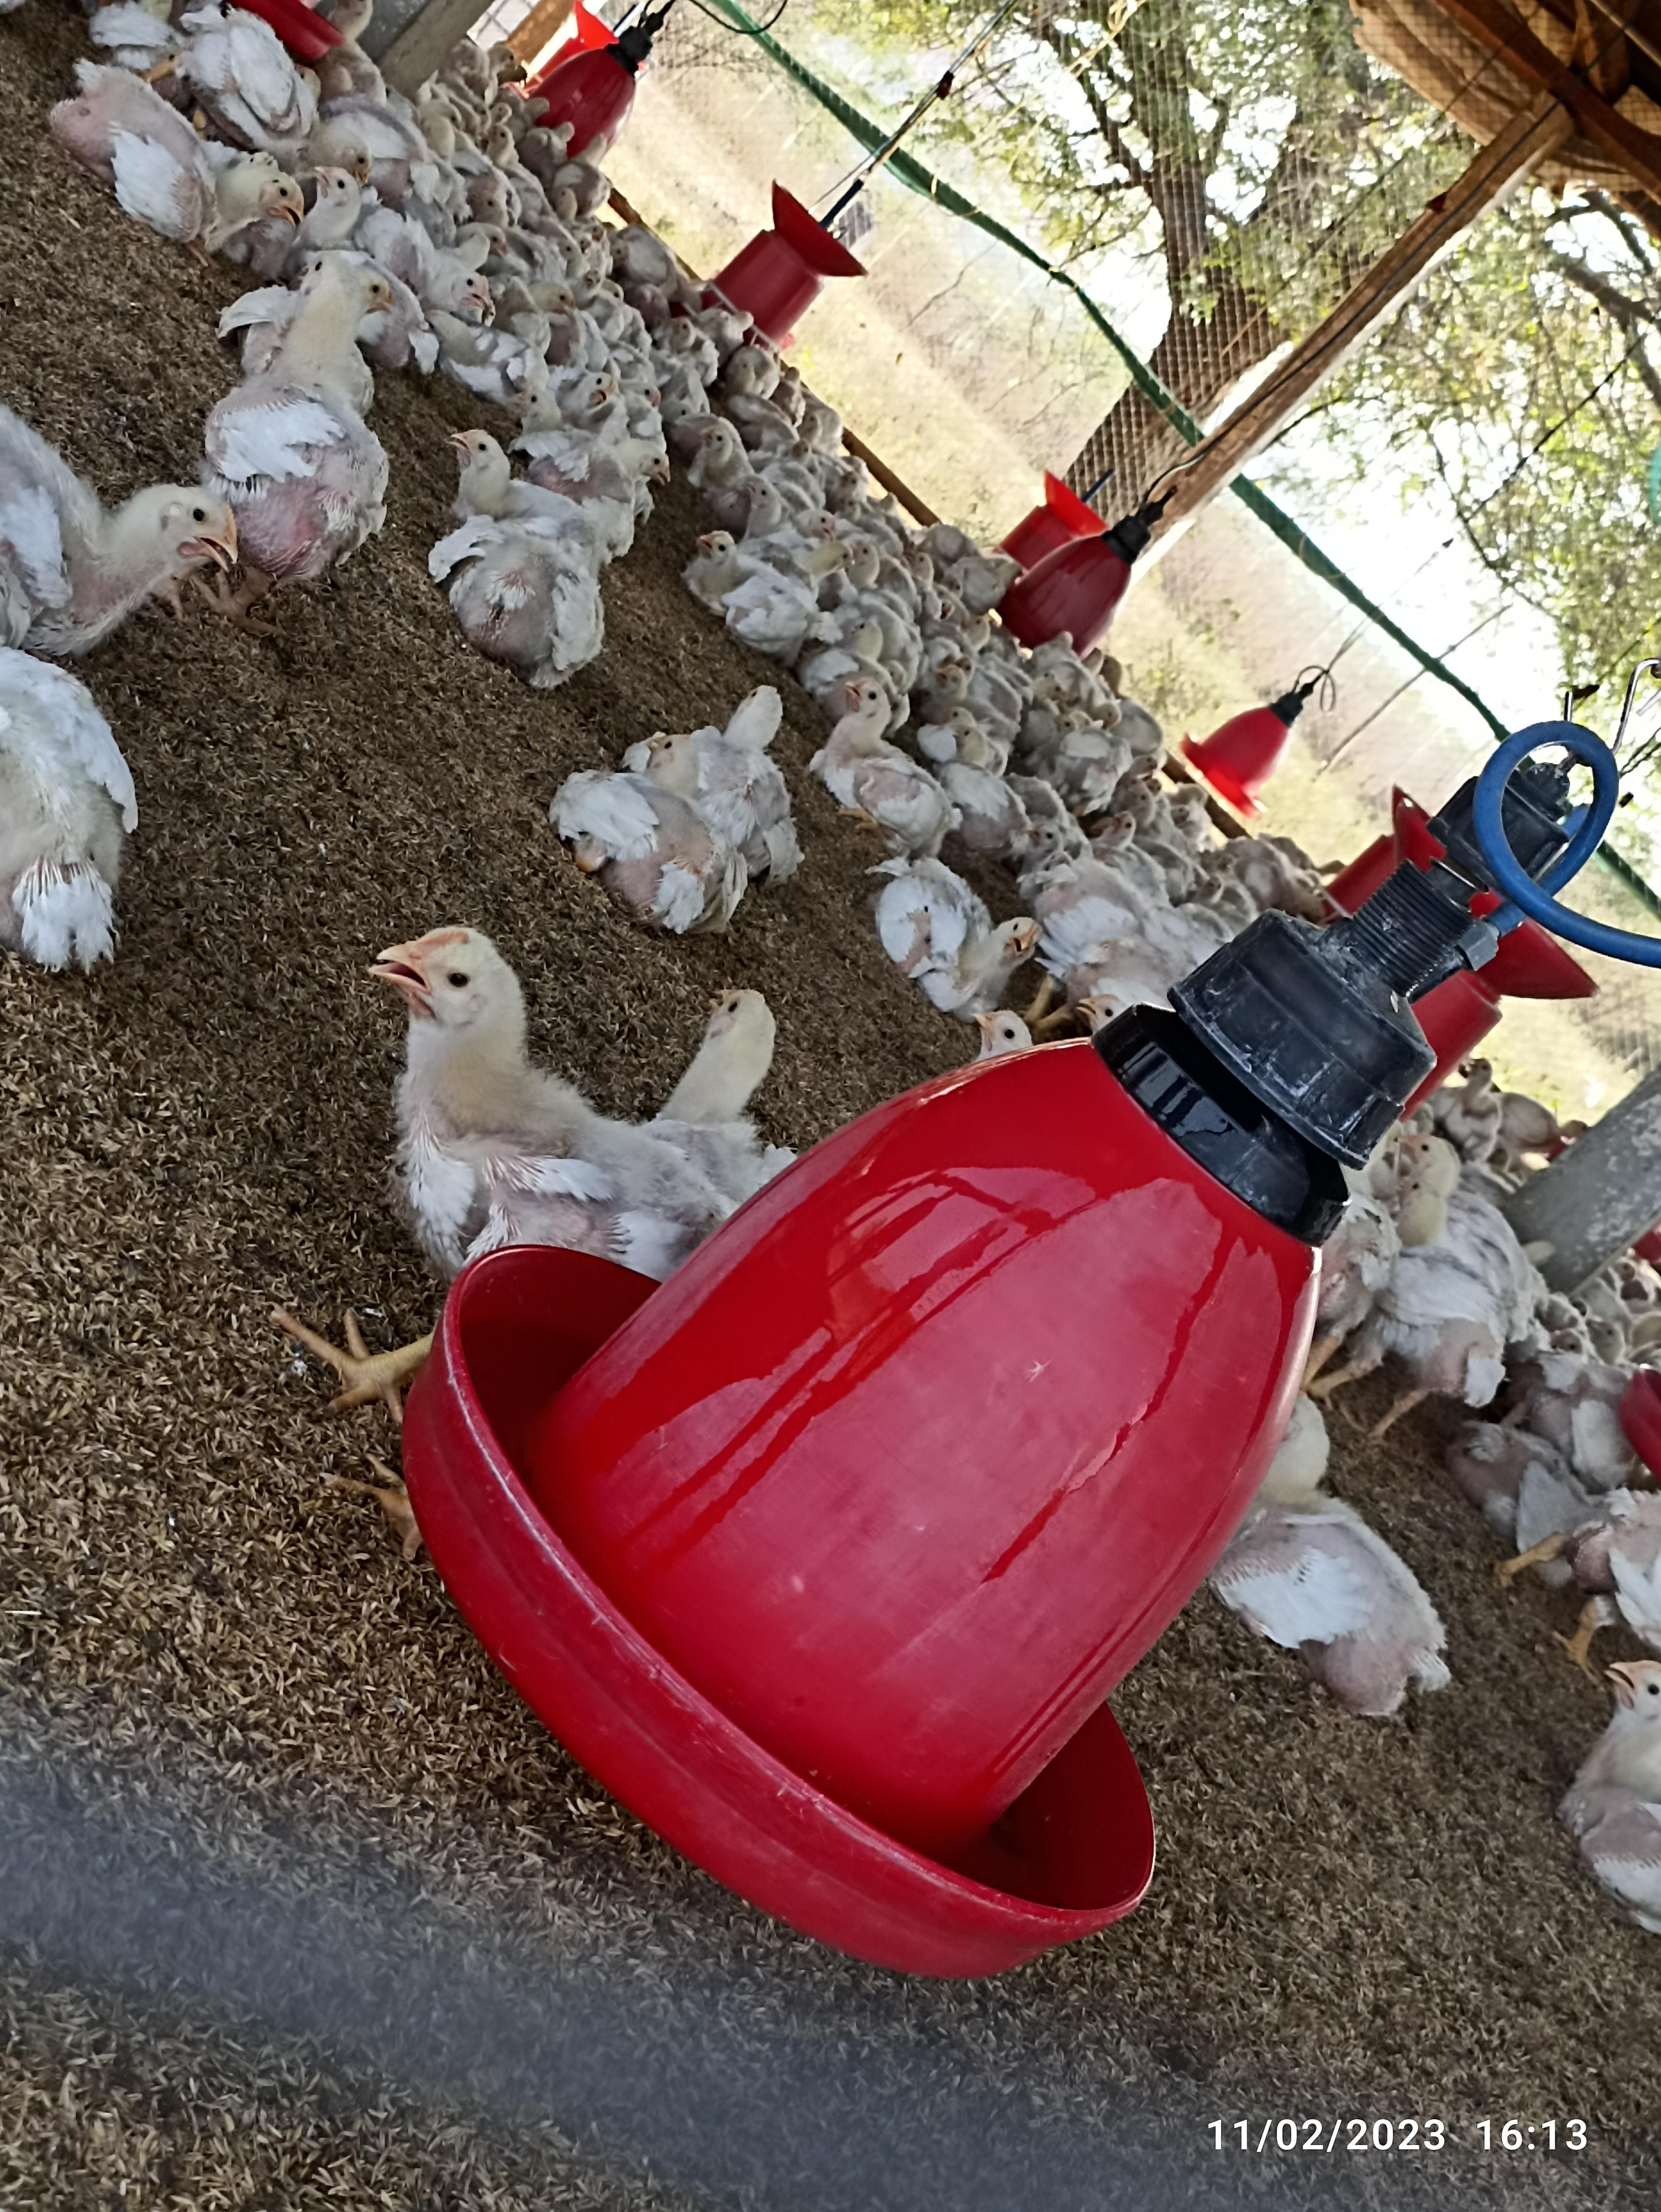Pollos: (370, 912, 623, 1239), (3, 419, 241, 656), (52, 52, 295, 218), (234, 262, 394, 501), (443, 445, 597, 654), (560, 736, 743, 902), (878, 860, 1038, 993), (822, 679, 947, 834), (682, 532, 822, 644)
